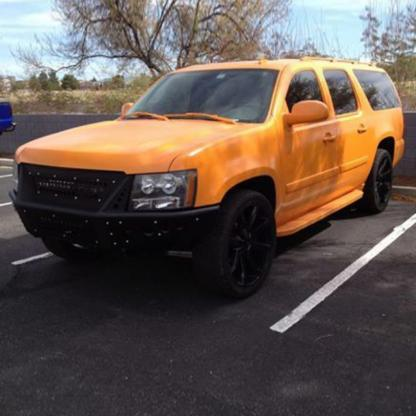Car: (10, 56, 406, 300), (1, 100, 16, 135)
